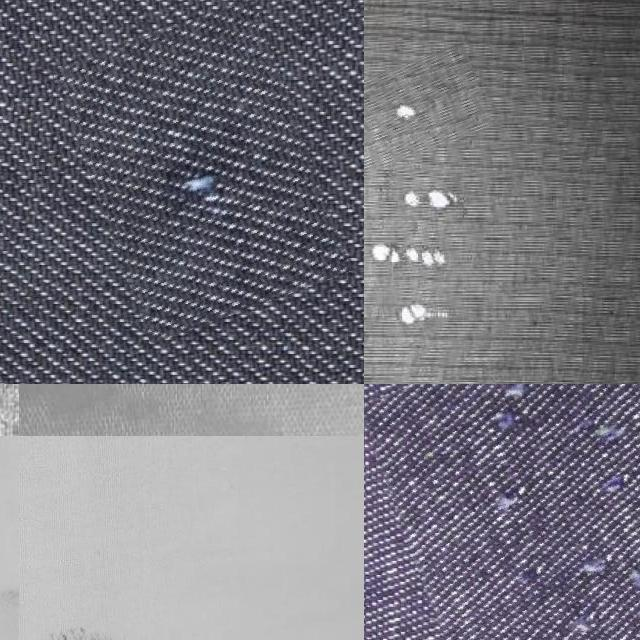Thread_other: (19, 384, 364, 435), (19, 584, 331, 640)
other: (364, 53, 489, 166), (370, 171, 487, 220), (364, 227, 482, 275), (374, 294, 491, 334)
stains: (74, 10, 330, 330), (405, 384, 640, 640)
